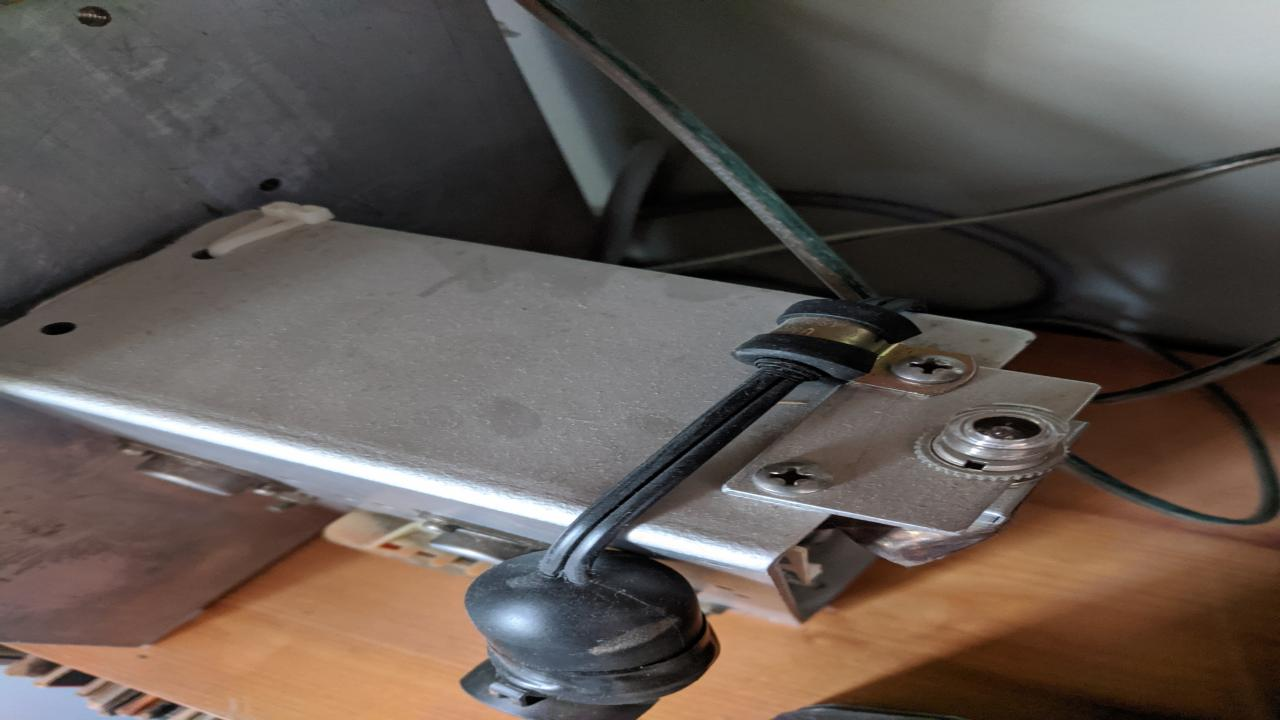CRS: (751, 459, 833, 495), (888, 350, 968, 384)
